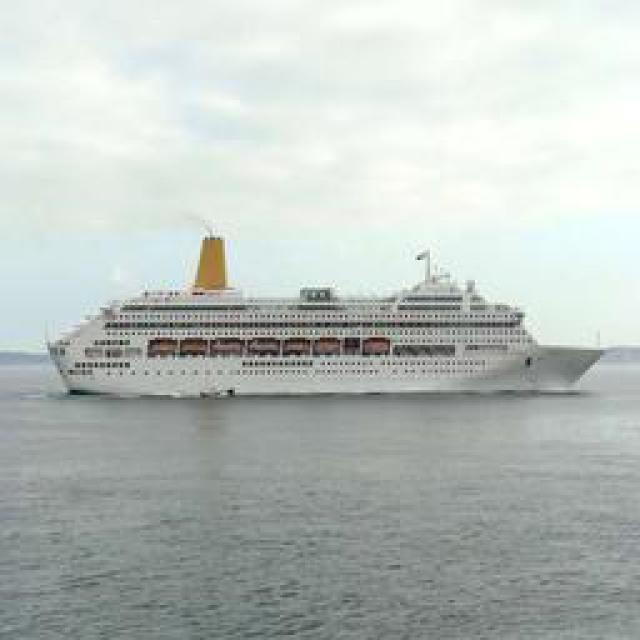Ship: (47, 235, 615, 403)
